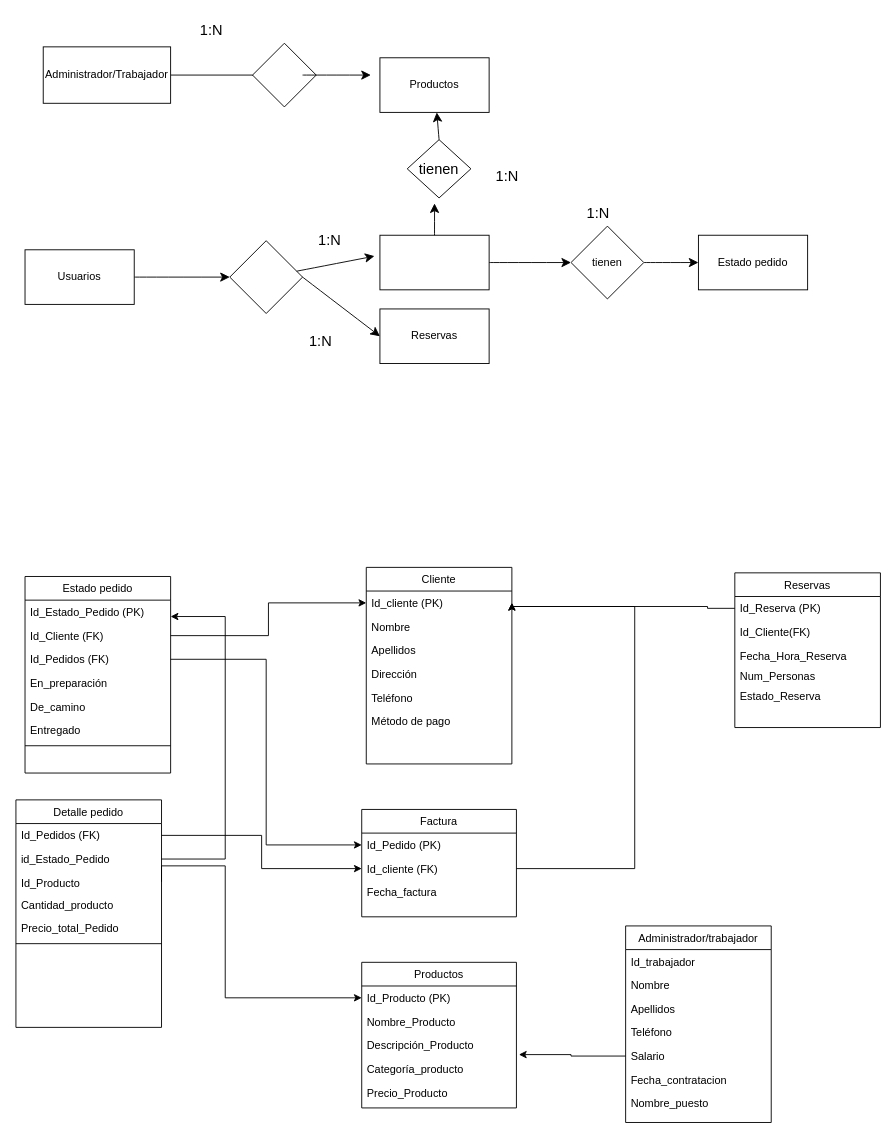
Image size: 896x1138. Some labels were removed from this diagram. Each missing label, with the centre of its shape:
"gestiona" goes at (x=284, y=74).
"Pedidos" goes at (x=434, y=262).
"realizan" goes at (x=266, y=276).
